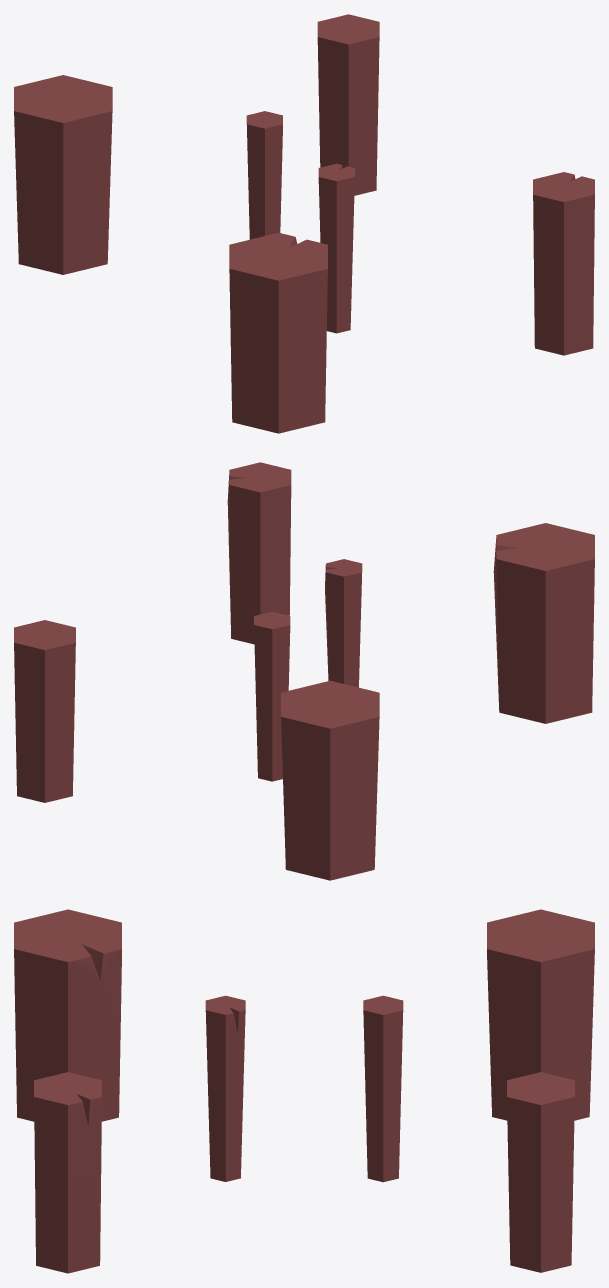
File: Basalt.fbx
The picture shows the model from 3 angles, top to bottom: view 1: azimuth 30°, elevation 25°; view 2: azimuth 150°, elevation 25°; view 3: azimuth 270°, elevation 25°; orthographic projection. The views are drawn at different scales.
Visible parts, largest first — view 1: Basalt; view 2: Basalt; view 3: Basalt.
Boxes of the visible parts, bbox=[...] form: Basalt: bbox=[14, 14, 594, 433]; Basalt: bbox=[14, 462, 594, 880]; Basalt: bbox=[14, 909, 594, 1273].
Bounding box in the file's own units: 11.76 × 4.74 × 14.75.
